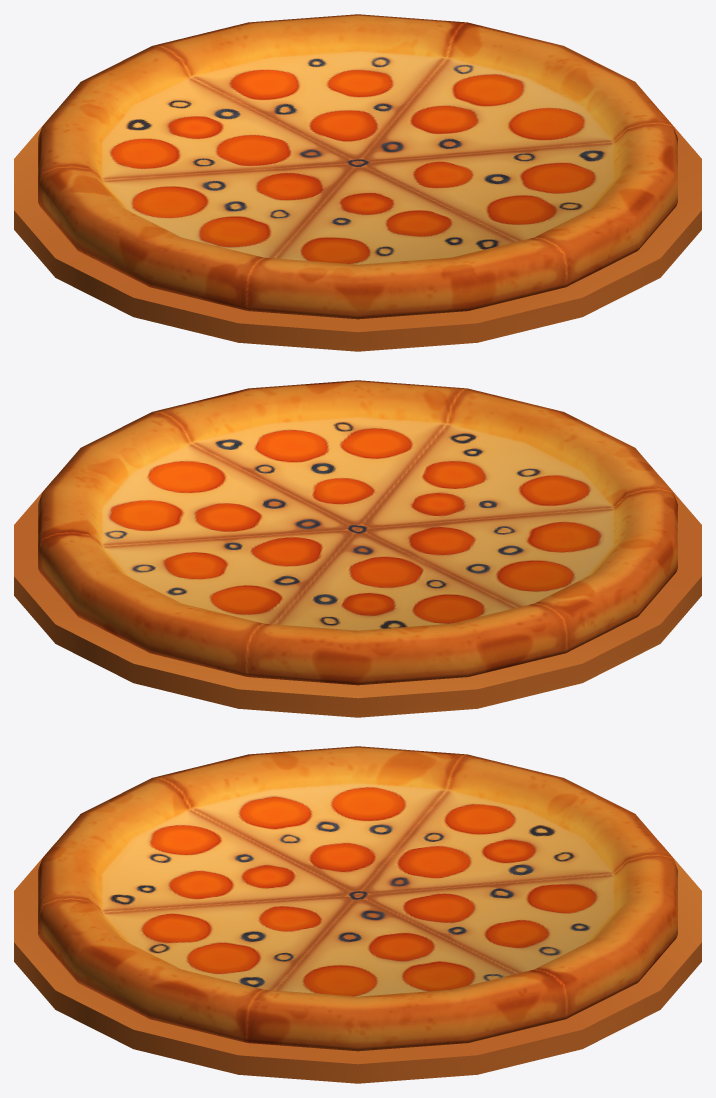
The model's file is CafeFood01_3.FBX.
The picture shows the model from 3 angles, top to bottom: view 1: azimuth 30°, elevation 25°; view 2: azimuth 150°, elevation 25°; view 3: azimuth 270°, elevation 25°; orthographic projection.
Visible parts, largest first — view 1: CafeFood01_3; view 2: CafeFood01_3; view 3: CafeFood01_3.
Boxes of the visible parts, <box> form: CafeFood01_3: <box>14,14,701,351</box>; CafeFood01_3: <box>14,380,701,717</box>; CafeFood01_3: <box>14,746,701,1083</box>.
Size of what is drawn, in the model's own units: 0.5282 by 0.049 by 0.5202.
